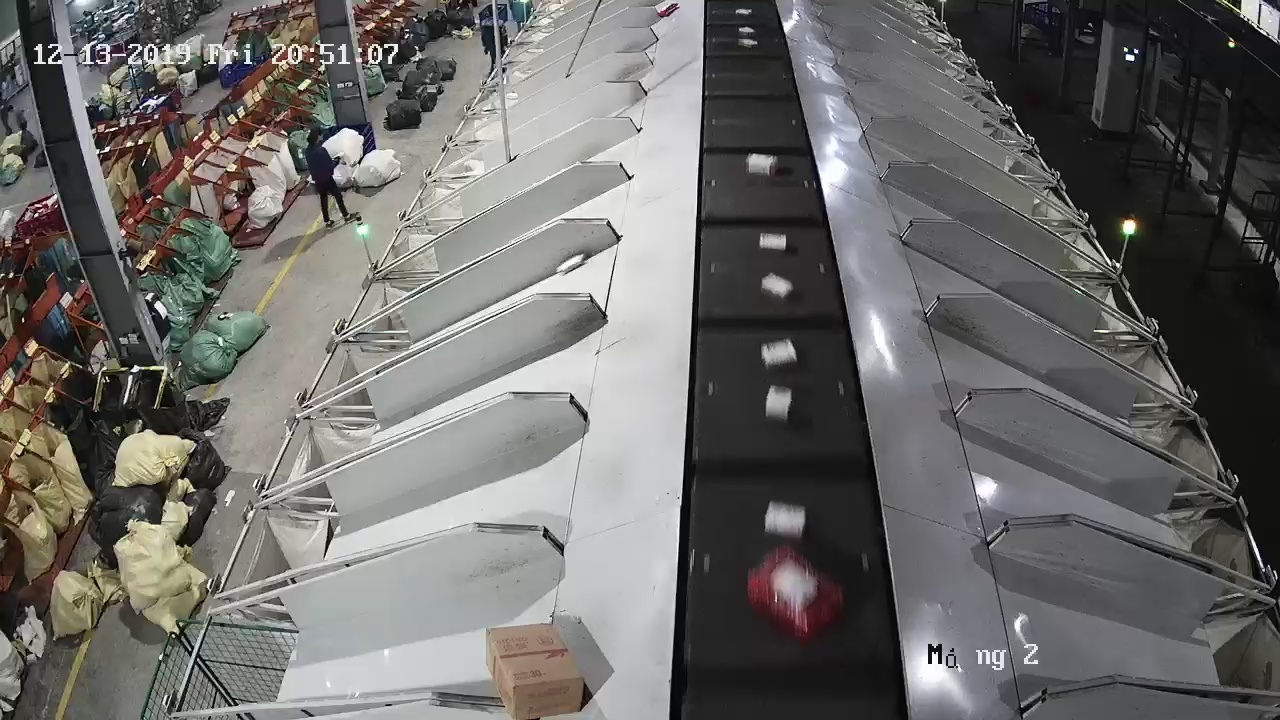parcel: (554, 251, 586, 274)
